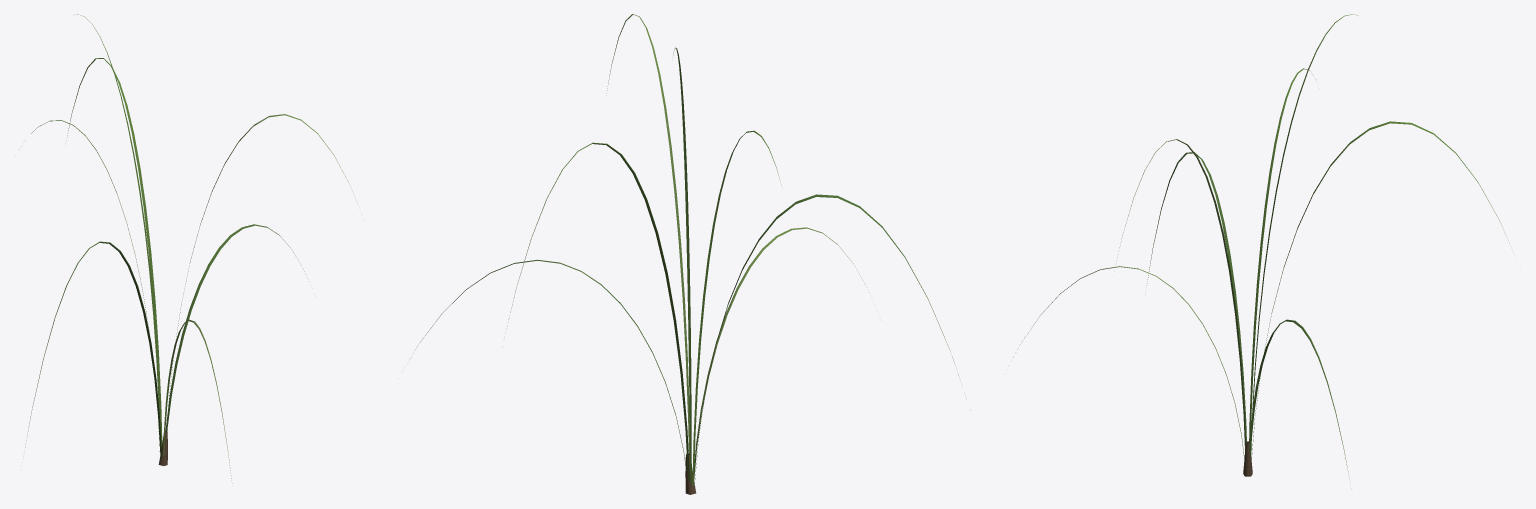
3 views of the same model, side by side, from view 1: azimuth 30°, elevation 25°; view 2: azimuth 150°, elevation 25°; view 3: azimuth 270°, elevation 25° (orthographic). The views are drawn at different scales.
Parts seen in each view (by area): view 1: Specimen B; view 2: Specimen B; view 3: Specimen B.
Boxes of the visible parts, x1,y1,x2,y2 form: Specimen B: (25,14,356,483); Specimen B: (410,14,958,494); Specimen B: (1013,14,1512,482).
Size of the model in its own units: 0.1028 by 0.1052 by 0.1121.
